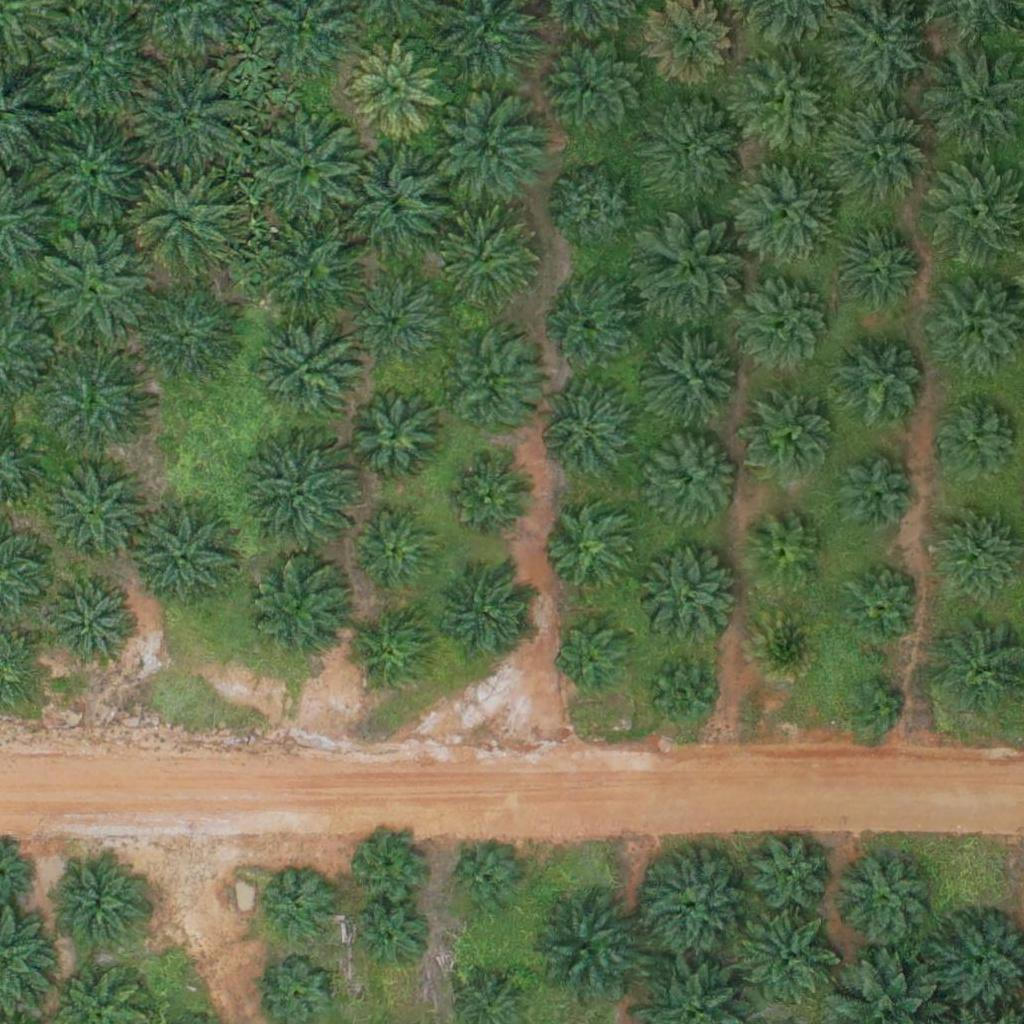Kelapa_Sawit: (523, 887, 648, 1013), (431, 97, 544, 211), (39, 6, 152, 119), (39, 120, 152, 233), (36, 235, 149, 348), (37, 352, 150, 465), (246, 437, 359, 550), (255, 112, 367, 226), (340, 146, 452, 260), (131, 68, 243, 181), (640, 220, 752, 333), (826, 99, 926, 200), (737, 50, 837, 151), (132, 174, 232, 275), (138, 288, 238, 389), (261, 225, 361, 326), (263, 328, 363, 429), (544, 36, 644, 137), (646, 96, 746, 197), (439, 564, 539, 665), (252, 550, 352, 651), (137, 507, 237, 608), (45, 464, 145, 565), (640, 851, 740, 952), (736, 162, 836, 262), (734, 273, 834, 373), (438, 212, 538, 312), (442, 344, 542, 444), (644, 430, 744, 530), (640, 548, 740, 648), (739, 908, 839, 1008), (349, 606, 437, 695), (747, 393, 835, 481), (347, 276, 435, 364), (349, 393, 437, 481), (650, 333, 738, 421), (451, 454, 539, 542), (352, 505, 440, 593), (50, 579, 138, 667), (932, 393, 1019, 481), (934, 505, 1021, 593), (831, 223, 918, 311), (837, 342, 924, 430), (351, 42, 438, 130), (552, 164, 639, 252), (553, 282, 640, 370), (544, 388, 631, 476), (550, 507, 637, 595), (57, 856, 144, 944), (745, 829, 832, 917), (839, 855, 926, 943), (747, 518, 822, 594), (837, 457, 912, 533), (844, 566, 919, 642), (748, 607, 823, 683), (646, 656, 721, 732), (556, 615, 631, 690), (262, 868, 337, 943), (346, 826, 421, 901), (350, 904, 425, 979), (448, 841, 523, 916), (846, 679, 908, 742)
